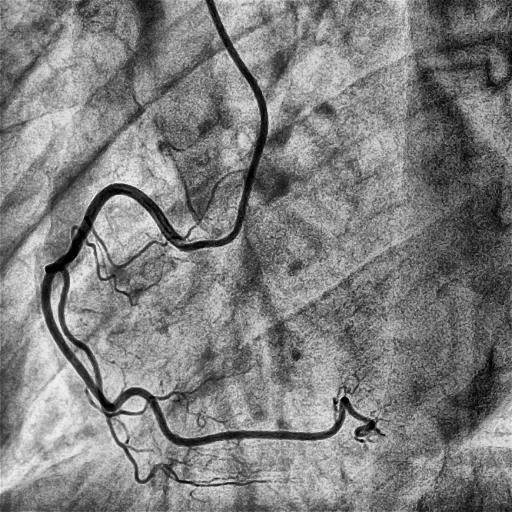rca: (41, 183, 376, 447)
